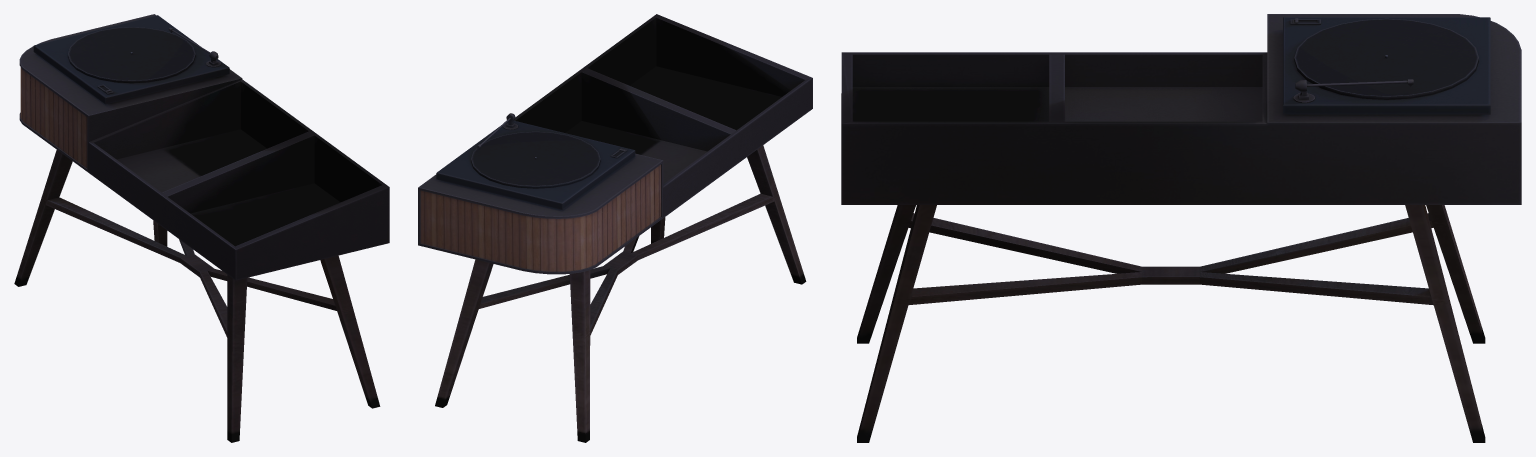
The model's file is Music.obj.
3 renders of one model, left to right at view 1: azimuth 30°, elevation 25°; view 2: azimuth 150°, elevation 25°; view 3: azimuth 270°, elevation 25°, orthographic. The views are drawn at different scales.
Parts seen in each view (by area): view 1: Object_12; view 2: Object_12; view 3: Object_12.
Boxes of the visible parts, left/top/right/bottom form: Object_12: left=14, top=14, right=389, bottom=442; Object_12: left=418, top=14, right=812, bottom=442; Object_12: left=841, top=14, right=1521, bottom=442.
Bounding box in the file's own units: 0.7346 × 1.12 × 1.94.
Materials: 1 (1 with a texture image).
